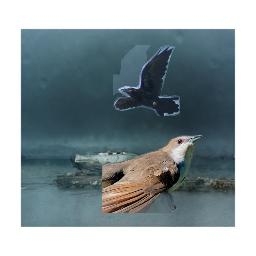Crow: (113, 45, 180, 116)
Cuckoo: (102, 135, 203, 213)
